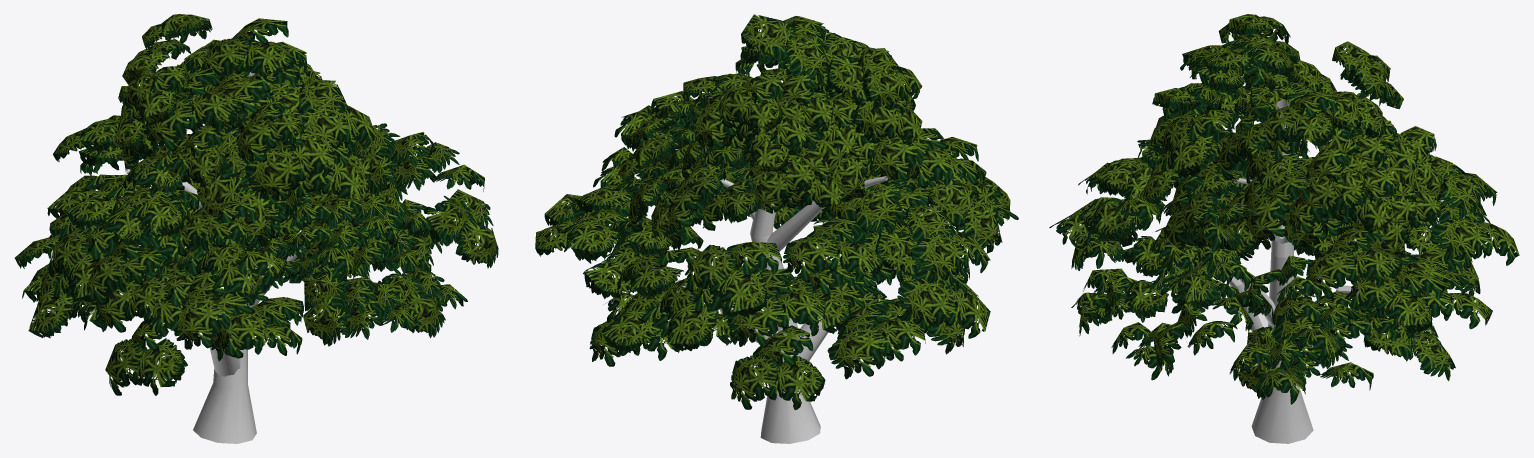
The model's file is tree1.fbx.
3 renders of one model, left to right at view 1: azimuth 30°, elevation 25°; view 2: azimuth 150°, elevation 25°; view 3: azimuth 270°, elevation 25°, orthographic. The views are drawn at different scales.
Parts seen in each view (by area): view 1: Mesh (2), Mesh; view 2: Mesh (2), Mesh; view 3: Mesh (2), Mesh.
Part boxes in pixels (x1=…): Mesh (2): x1=14, y1=14, x2=498, y2=395; Mesh: x1=125, y1=72, x2=302, y2=443; Mesh (2): x1=535, y1=14, x2=1018, y2=410; Mesh: x1=675, y1=94, x2=896, y2=443; Mesh (2): x1=1049, y1=14, x2=1519, y2=404; Mesh: x1=1226, y1=100, x2=1359, y2=443.
Bounding box in the file's own units: 881 × 785 × 849.
